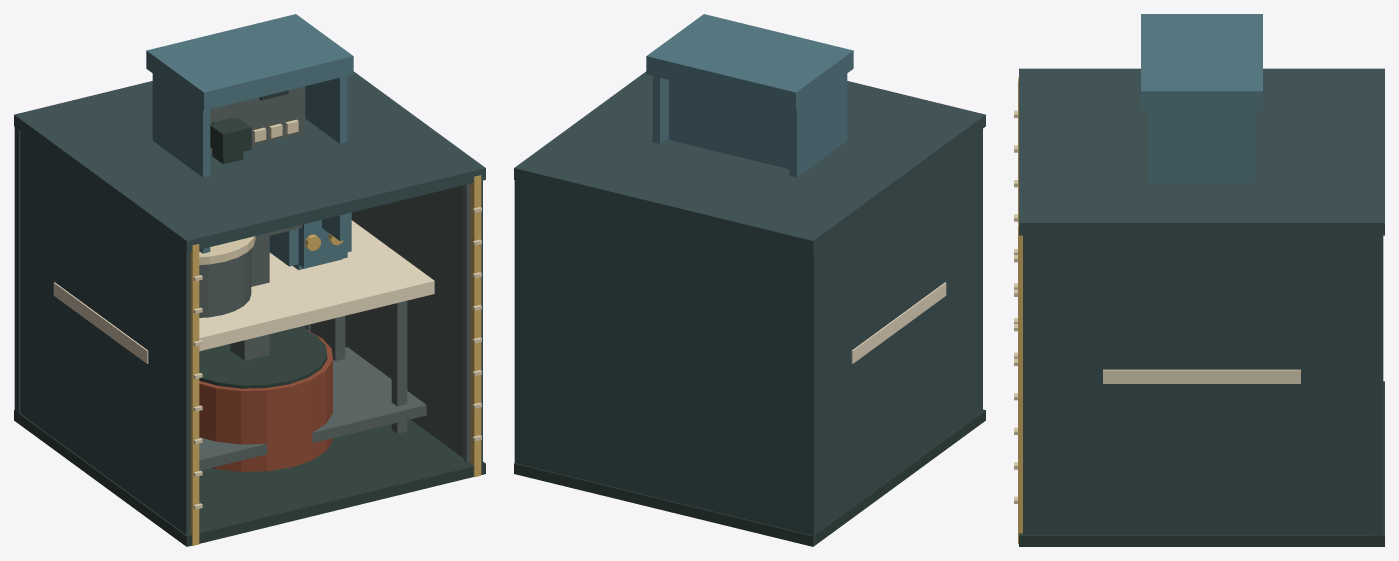
The model's file is equipment-v11.glb.
The picture shows the model from 3 angles, left to right: view 1: azimuth 30°, elevation 25°; view 2: azimuth 150°, elevation 25°; view 3: azimuth 270°, elevation 25°; orthographic projection. The views are drawn at different scales.
Visible parts, largest first — view 1: Tent_roof, Tent_dark, Tent_metal, Payphone_blue, Mixer_ivory, Mixer_metal, Tent_rust, Tent_gold, Payphone_metal, Mixer_blue, Payphone_dark, Mixer_trim (+1 smaller); view 2: Tent_roof, Payphone_blue, Tent_dark, Mixer_ivory; view 3: Tent_roof, Payphone_blue, Tent_dark, Mixer_ivory, Tent_gold, Tent_trim.
Part boxes in pixels (<box>): Tent_roof: <box>14,71,485,534</box>; Tent_dark: <box>14,327,485,546</box>; Tent_metal: <box>305,184,470,462</box>; Payphone_blue: <box>146,14,353,253</box>; Mixer_ivory: <box>53,220,434,363</box>; Mixer_metal: <box>199,249,426,470</box>; Tent_rust: <box>199,329,332,471</box>; Tent_gold: <box>190,175,481,545</box>; Payphone_metal: <box>210,86,305,360</box>; Mixer_blue: <box>269,212,351,269</box>; Payphone_dark: <box>210,90,288,164</box>; Mixer_trim: <box>199,236,255,264</box>; Tent_roof: <box>514,71,985,545</box>; Payphone_blue: <box>646,14,853,177</box>; Tent_dark: <box>514,409,985,546</box>; Mixer_ivory: <box>851,282,946,363</box>; Tent_roof: <box>1019,68,1384,546</box>; Payphone_blue: <box>1141,14,1262,183</box>; Tent_dark: <box>1019,381,1384,546</box>; Mixer_ivory: <box>1103,369,1300,383</box>; Tent_gold: <box>1018,77,1022,544</box>; Tent_trim: <box>1014,110,1017,503</box>.
Bounding box in the file's own units: 2.4 × 3.02 × 2.43.
